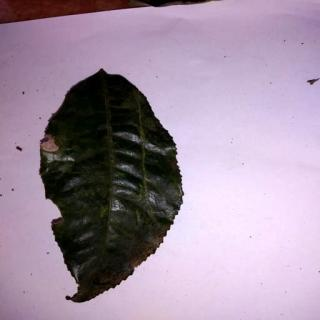Anthracnose: (41, 70, 184, 305)
